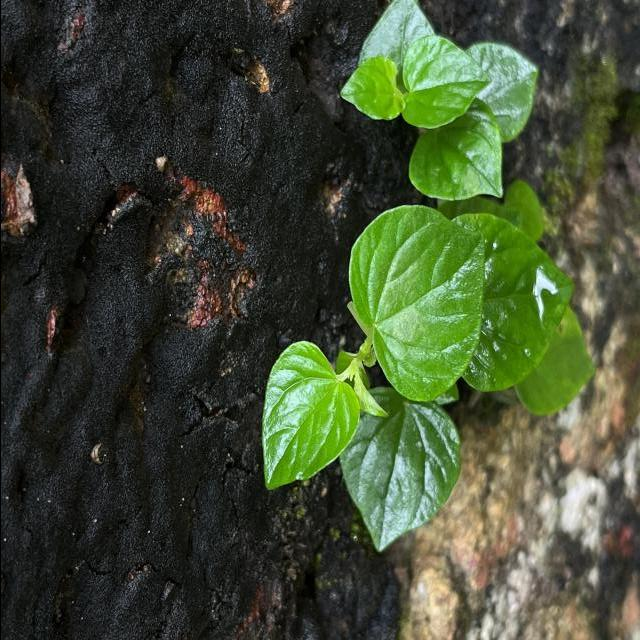Peperomia pellucida: (346, 202, 486, 406), (259, 338, 360, 494)
